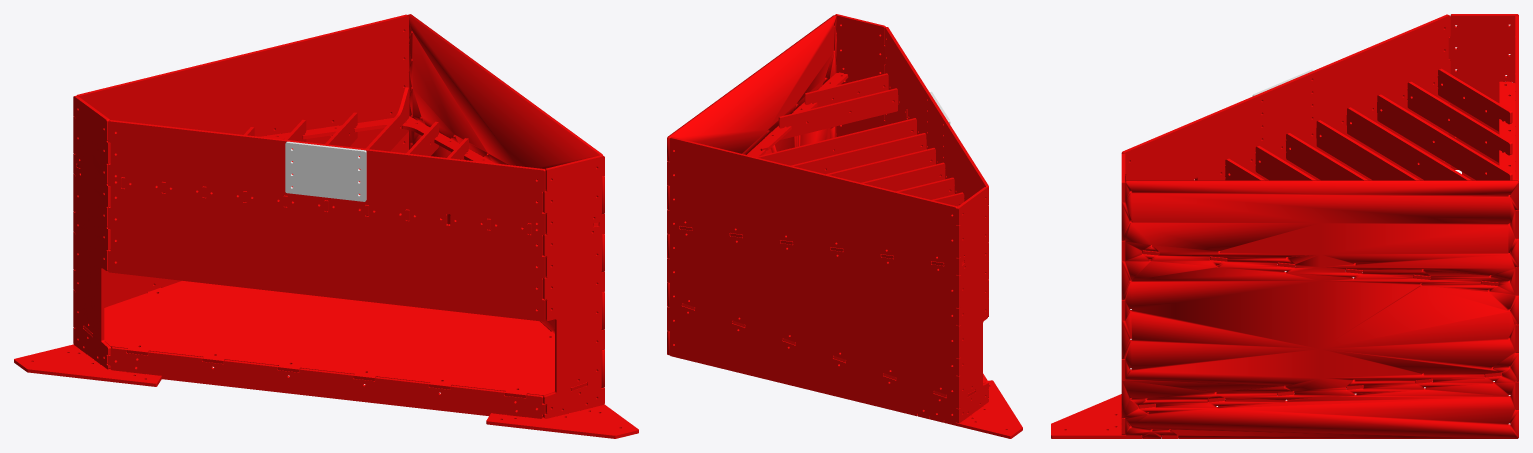
Rendered from red-hyderogen-electrolizer.fbx.
The picture shows the model from 3 angles, left to right: view 1: azimuth 30°, elevation 25°; view 2: azimuth 150°, elevation 25°; view 3: azimuth 270°, elevation 25°; orthographic projection. The views are drawn at different scales.
Parts seen in each view (by area): view 1: Body1.022, Body1.007, Body1.005, Body1.017, Body1.009, Body1.008, Body1.011, Body1.001, Body1.010, Body1.018, Body1.016, Body1.002 (+2 smaller); view 2: Body1.005, Body1.017, Body1.011, Body1.022, Body1.009, Body1.021, Body1.014, Body1.013, Body1.018, Body1.002, Body1.004, Body1.016 (+2 smaller); view 3: Body1.017, Body1.022, Body1.011, Body1.020, Body1.003, Body1.006, Body1.015, Body1.010, Body1.012, Body1.002, Body1.016, Body1.013 (+4 smaller).
Part boxes in pixels (bbox=[...]): Body1.022: bbox=[108, 120, 545, 321]; Body1.007: bbox=[84, 213, 586, 398]; Body1.005: bbox=[73, 14, 409, 327]; Body1.017: bbox=[407, 14, 604, 387]; Body1.009: bbox=[543, 155, 604, 418]; Body1.008: bbox=[108, 347, 545, 418]; Body1.011: bbox=[73, 95, 110, 369]; Body1.001: bbox=[285, 142, 366, 201]; Body1.010: bbox=[486, 401, 638, 438]; Body1.018: bbox=[14, 344, 161, 386]; Body1.016: bbox=[77, 116, 598, 226]; Body1.002: bbox=[324, 87, 409, 211]; Body1.005: bbox=[667, 137, 960, 422]; Body1.017: bbox=[667, 15, 836, 355]; Body1.011: bbox=[956, 187, 988, 423]; Body1.022: bbox=[884, 27, 988, 316]; Body1.009: bbox=[834, 14, 885, 136]; Body1.021: bbox=[778, 88, 898, 139]; Body1.014: bbox=[755, 118, 916, 165]; Body1.013: bbox=[791, 133, 926, 174]; Body1.018: bbox=[918, 380, 1022, 438]; Body1.002: bbox=[826, 148, 935, 182]; Body1.004: bbox=[804, 73, 888, 107]; Body1.016: bbox=[679, 72, 964, 265]; Body1.017: bbox=[1121, 180, 1518, 438]; Body1.022: bbox=[1121, 14, 1450, 280]; Body1.011: bbox=[1448, 14, 1518, 180]; Body1.020: bbox=[1377, 94, 1512, 180]; Body1.003: bbox=[1346, 107, 1471, 180]; Body1.006: bbox=[1407, 81, 1512, 162]; Body1.015: bbox=[1316, 120, 1419, 180]; Body1.010: bbox=[1051, 394, 1178, 438]; Body1.012: bbox=[1437, 68, 1512, 131]; Body1.002: bbox=[1286, 133, 1510, 252]; Body1.016: bbox=[1142, 81, 1515, 285]; Body1.013: bbox=[1255, 145, 1316, 180].
Size of the model in its own units: 82.45 by 50 by 82.45.
